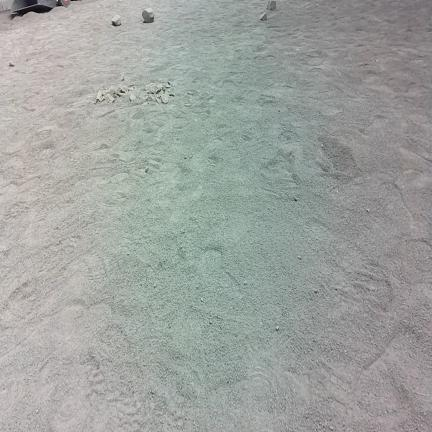Rock: (142, 8, 154, 22), (104, 93, 114, 102), (267, 0, 276, 10), (112, 15, 120, 26), (161, 93, 169, 103), (105, 87, 115, 95), (97, 91, 104, 102), (156, 85, 165, 93), (260, 13, 266, 20), (142, 95, 148, 102), (114, 90, 121, 96), (130, 94, 136, 101), (156, 96, 162, 103), (127, 86, 135, 91), (120, 88, 126, 93), (168, 92, 174, 96), (166, 82, 170, 88), (9, 62, 14, 66), (185, 103, 191, 106), (276, 326, 279, 331), (294, 197, 297, 201), (298, 255, 301, 259), (122, 76, 124, 81), (201, 298, 203, 301)
